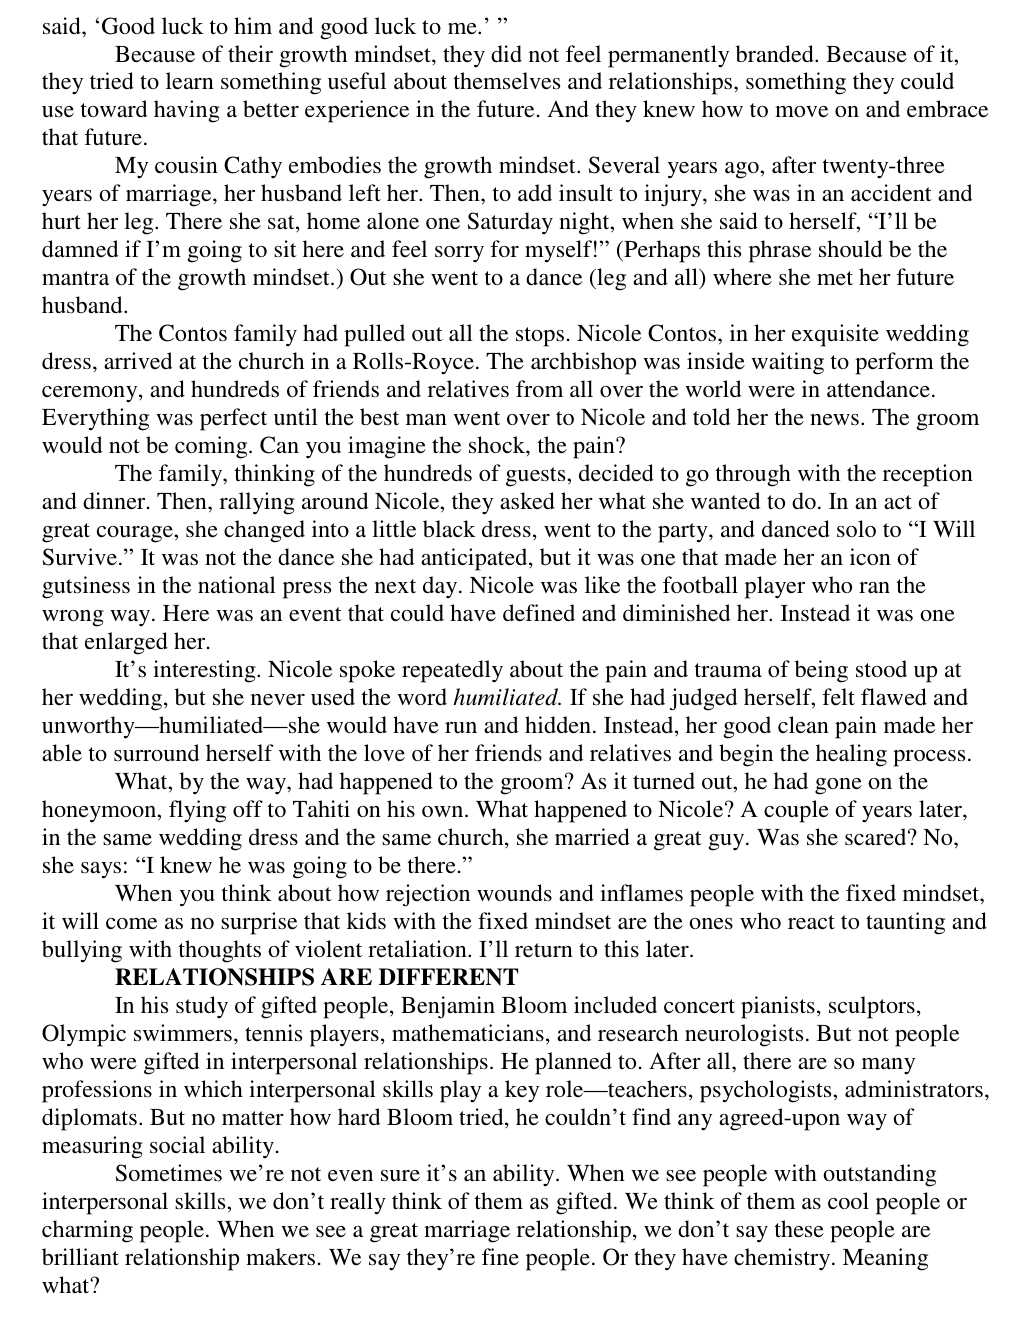latin: (30, 459, 977, 652), (29, 150, 978, 317), (37, 995, 995, 1154), (38, 1155, 977, 1307), (36, 319, 983, 459), (38, 14, 996, 150), (29, 649, 986, 769), (36, 771, 971, 878), (35, 878, 993, 962), (112, 962, 521, 987)
